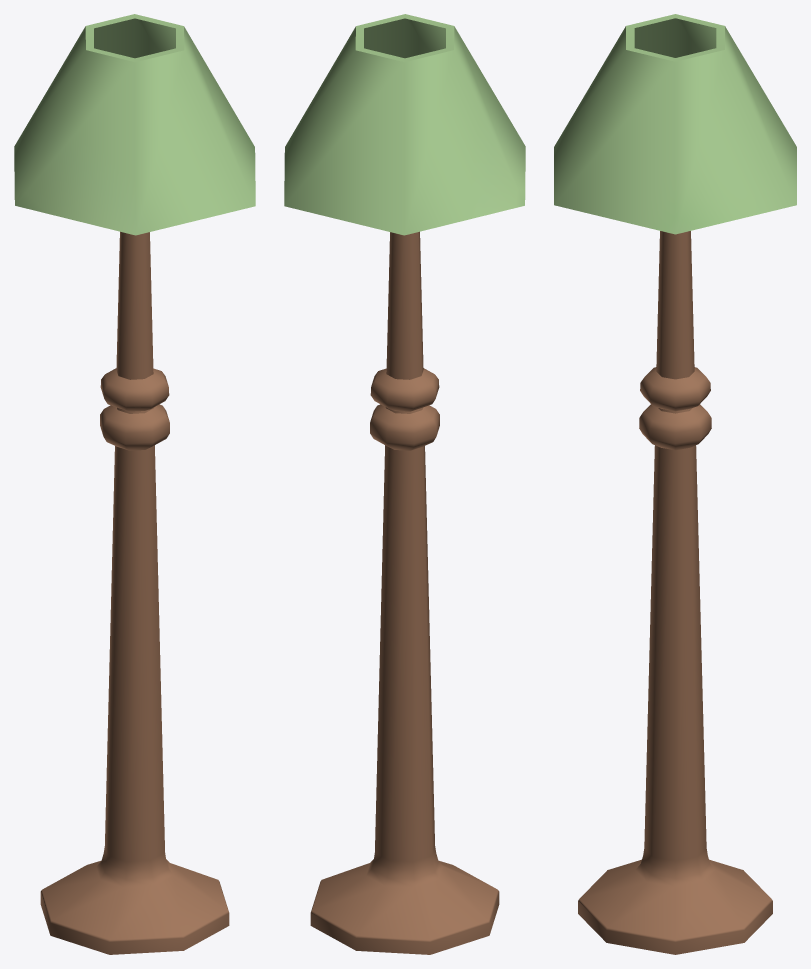
The model's file is lampada da terra.fbx.
3 renders of one model, left to right at view 1: azimuth 30°, elevation 25°; view 2: azimuth 150°, elevation 25°; view 3: azimuth 270°, elevation 25°, orthographic.
Visible parts, largest first — view 1: Piantana; view 2: Piantana; view 3: Piantana.
Boxes of the visible parts, x1,y1,x2,y2 form: Piantana: [14, 14, 255, 954]; Piantana: [284, 14, 525, 954]; Piantana: [554, 14, 796, 954].
Size of the model in its own units: 10.56 by 36.85 by 9.25.
